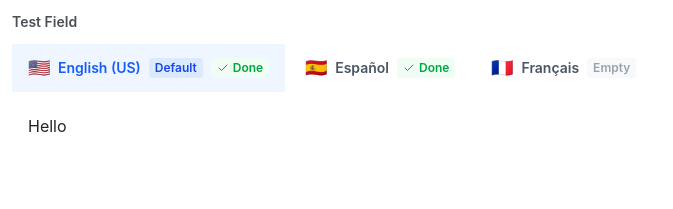
Test case: TranslatableInput Component › Copy from Default Functionality › should show "Copied!" message after copying
The width and height of the screenshot is (673, 209).
# Switch to French tab
Click the button "🇫🇷 Français Empty" at (564,68), box [476, 44, 652, 92]
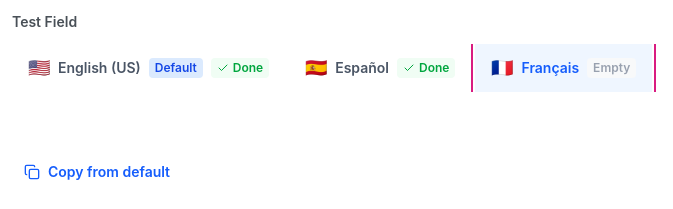
Click the button "Copy from default" at (97,172), box [12, 156, 182, 188]
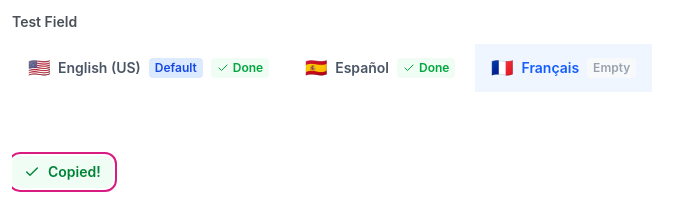
Result: the button "Copied!" is shown at [12, 156, 113, 188]
